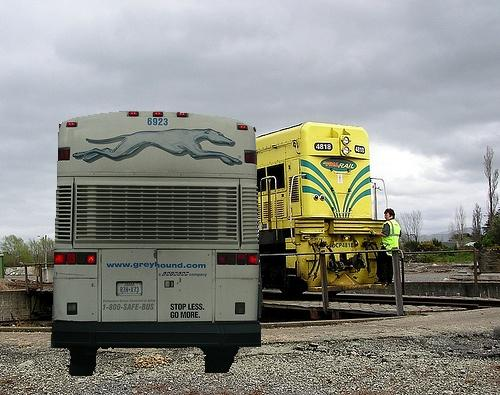tampered: (52, 112, 261, 376)
